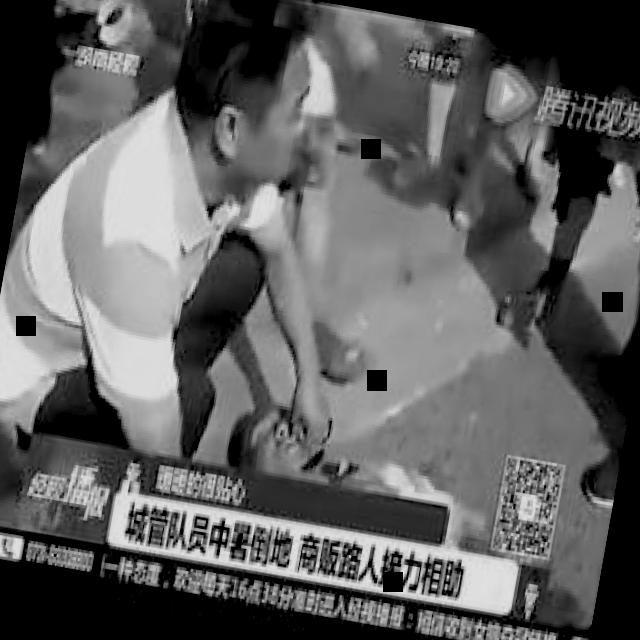Fall-Detected: (188, 354, 600, 640)
